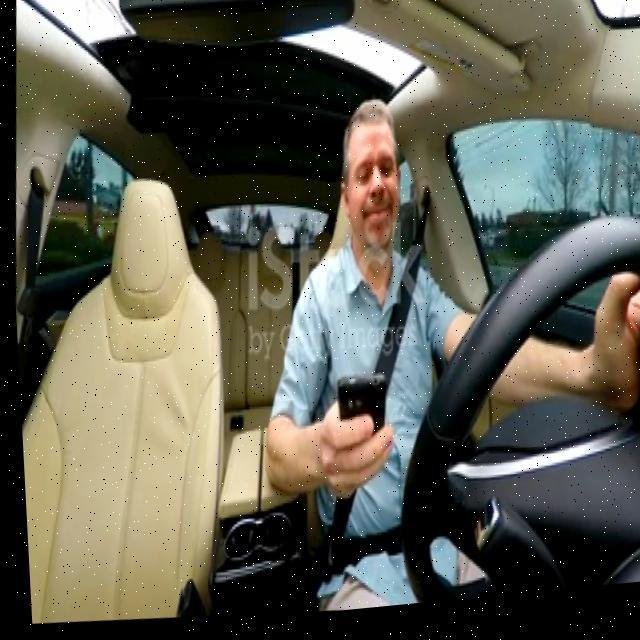PhoneCall: (324, 375, 386, 503)
